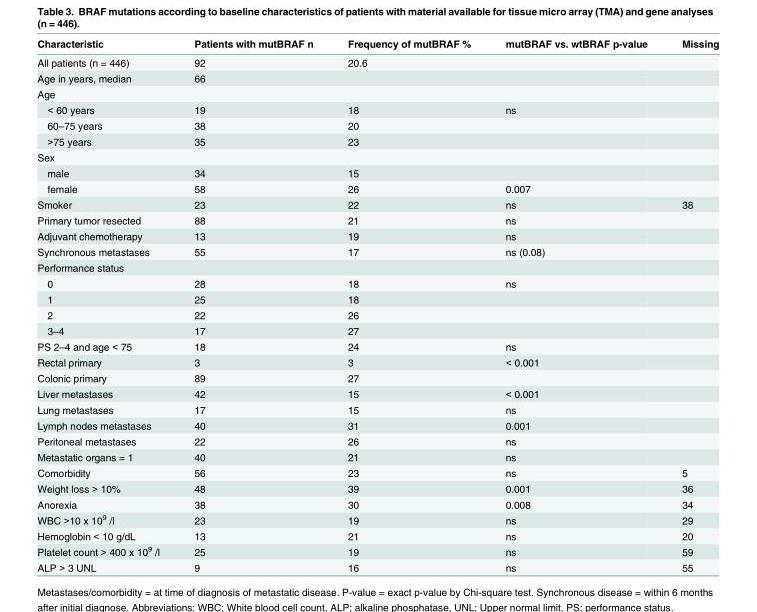table: (36, 37, 718, 572)
table column: (487, 37, 664, 572), (329, 37, 487, 572), (176, 37, 329, 572), (36, 37, 176, 572), (664, 37, 718, 572)
table column header: (36, 37, 718, 52)
table projected row header: (36, 85, 718, 101), (36, 148, 718, 164), (36, 259, 718, 275)
table row: (36, 52, 718, 70), (36, 542, 718, 559), (36, 85, 718, 101), (36, 101, 718, 117), (36, 117, 718, 133), (36, 148, 718, 164), (36, 164, 718, 180), (36, 180, 718, 196), (36, 196, 718, 212), (36, 227, 718, 243), (36, 243, 718, 259), (36, 259, 718, 275), (36, 290, 718, 306), (36, 306, 718, 322), (36, 322, 718, 338), (36, 338, 718, 354), (36, 369, 718, 385), (36, 385, 718, 401), (36, 401, 718, 417), (36, 417, 718, 433), (36, 448, 718, 464), (36, 464, 718, 480), (36, 480, 718, 496), (36, 511, 718, 527), (36, 37, 718, 52), (36, 70, 718, 85), (36, 133, 718, 148), (36, 212, 718, 227), (36, 275, 718, 290), (36, 354, 718, 369), (36, 433, 718, 448), (36, 496, 718, 511), (36, 527, 718, 542), (36, 559, 718, 572)
